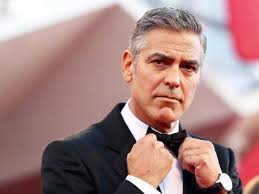white_male: (117, 22, 211, 129)
